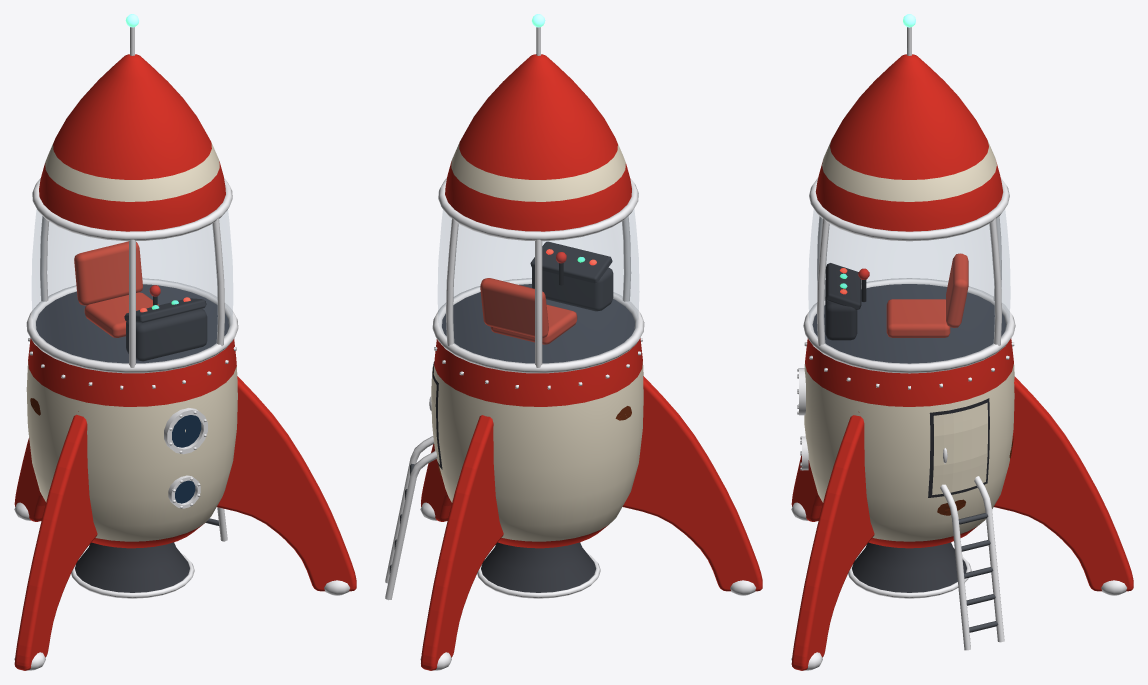
File: rocket.glb
The picture shows the model from 3 angles, left to right: view 1: azimuth 30°, elevation 25°; view 2: azimuth 150°, elevation 25°; view 3: azimuth 270°, elevation 25°; orthographic projection.
Parts seen in each view (by area): view 1: Body; view 2: Body; view 3: Body.
Boxes of the visible parts, box(x1,y1,x2,y2) form: Body: box(14, 14, 356, 670); Body: box(385, 14, 762, 670); Body: box(791, 14, 1133, 670).
Size of the model in its own units: 1.73 by 2.81 by 1.51.
